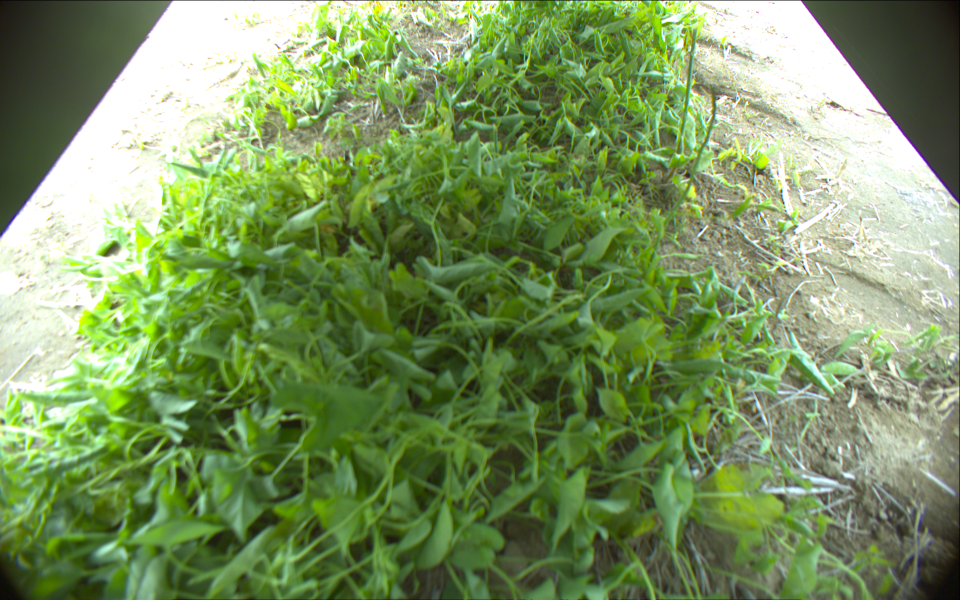aspa: (684, 82, 718, 197), (676, 24, 699, 156)
